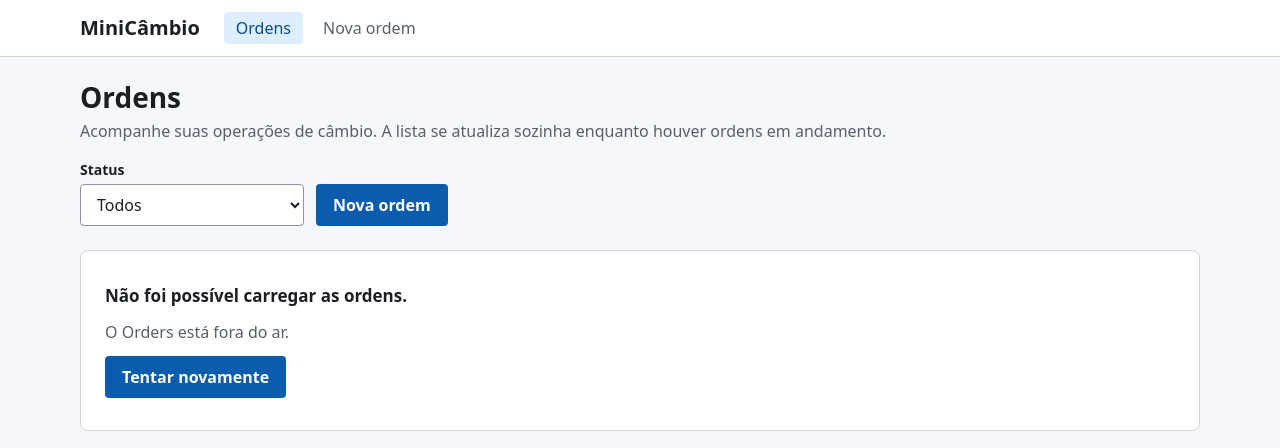
it: OrdersListPage › mostra o erro da API e permite tentar novamente
The width and height of the screenshot is (1280, 448).
Check: the text "Não foi possível carregar as ordens." is shown, box [105,283,407,308]
Check: the text "O Orders está fora do ar." is shown, box [105,320,289,344]
Click the button "Tentar novamente": (196, 377) [105,356,286,398]
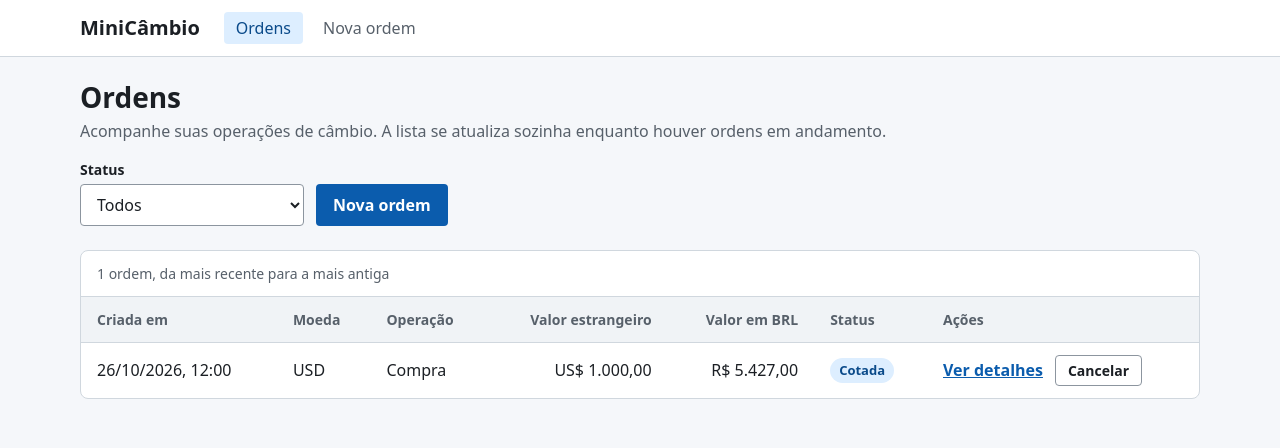
Check: the table "1 ordem," is shown, box [81,251,1199,398]
Check: the message "Não foi possível carregar as ordens. O Orders está fora do ar. Tentar novamente" is gone
